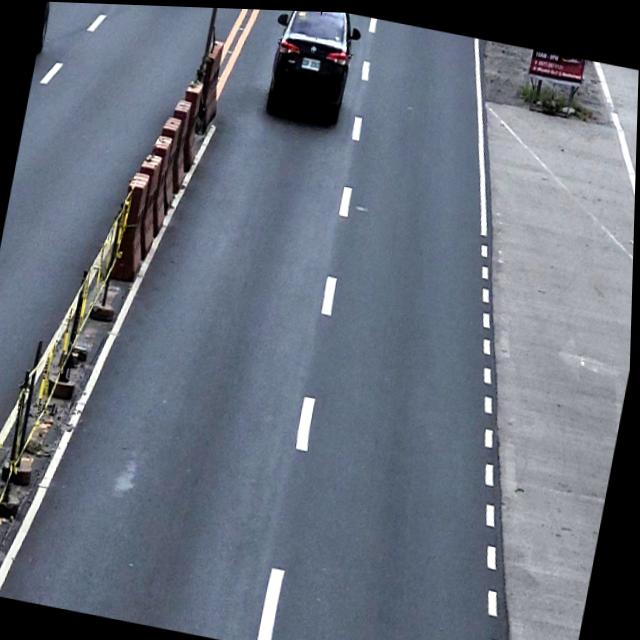Car: (260, 8, 364, 124)
License-Plate: (300, 52, 322, 70)
